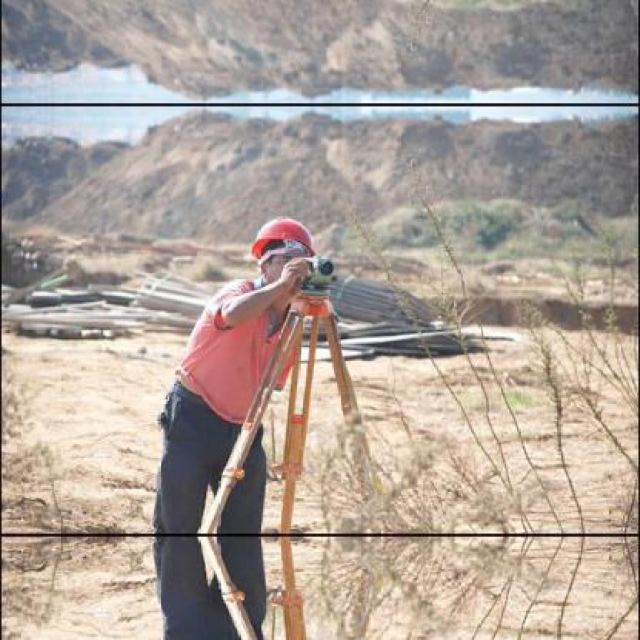helmet: (240, 212, 323, 295)
